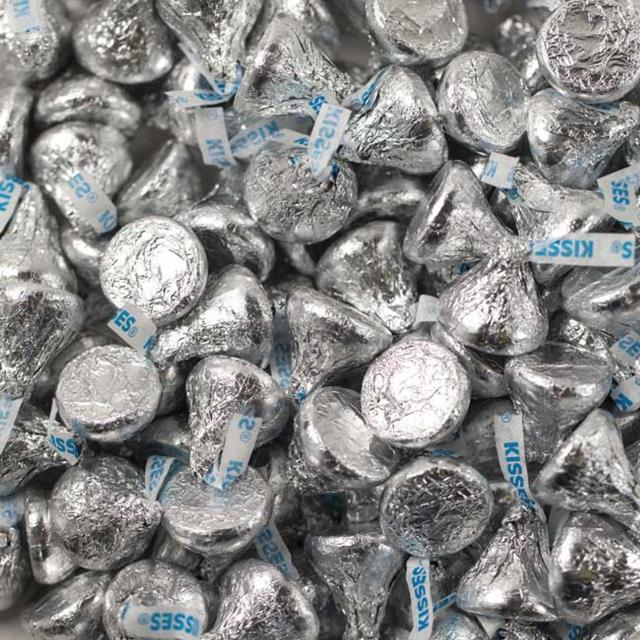kisses: (226, 74, 376, 261), (442, 467, 602, 632), (414, 202, 566, 368), (32, 448, 200, 581), (282, 268, 408, 428), (149, 344, 286, 486), (25, 108, 139, 245)
